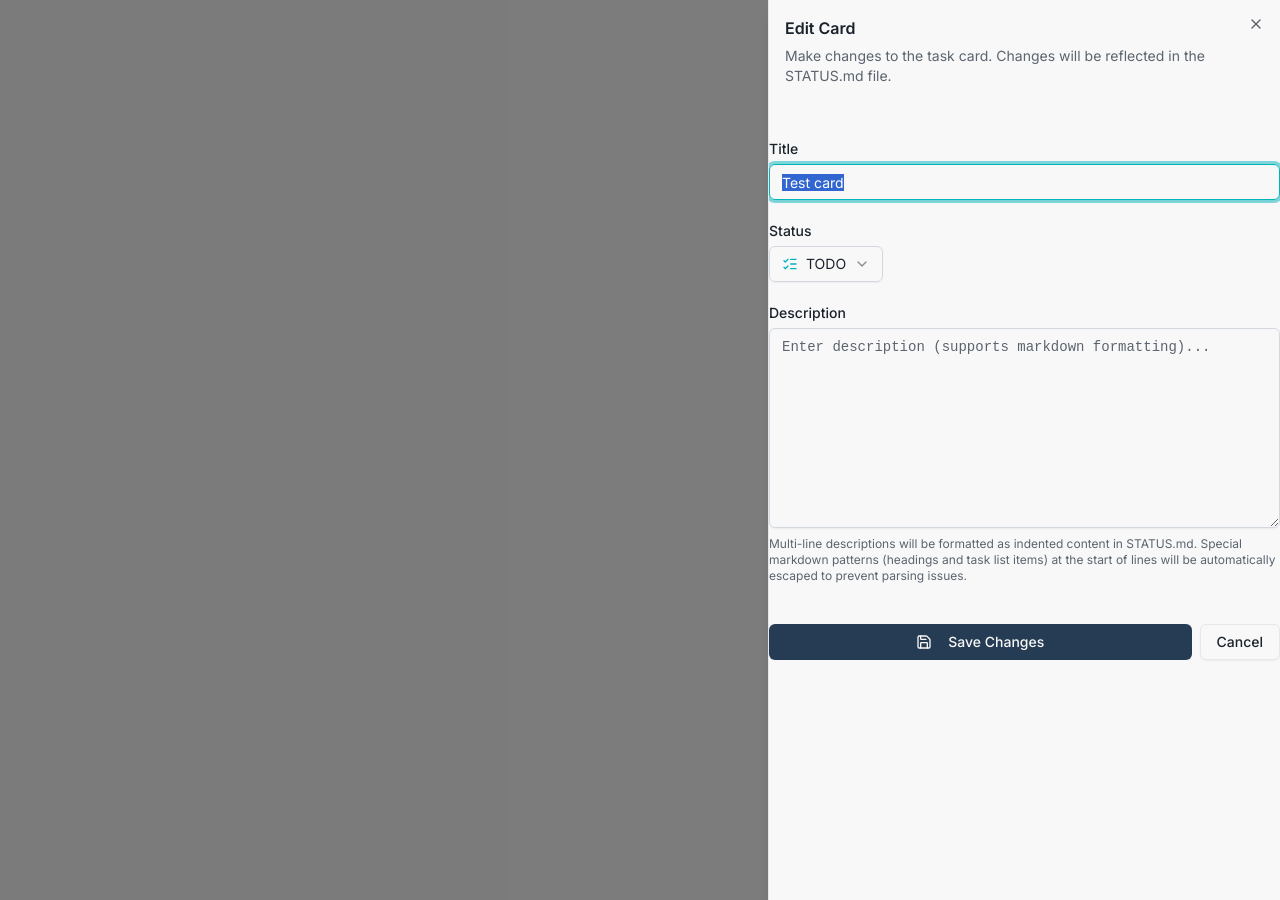
Test case: CardDetailDrawer › hides in-progress status when board is in simple mode
Step 1. Click the dropdown → (826, 264), box [769, 246, 883, 282]
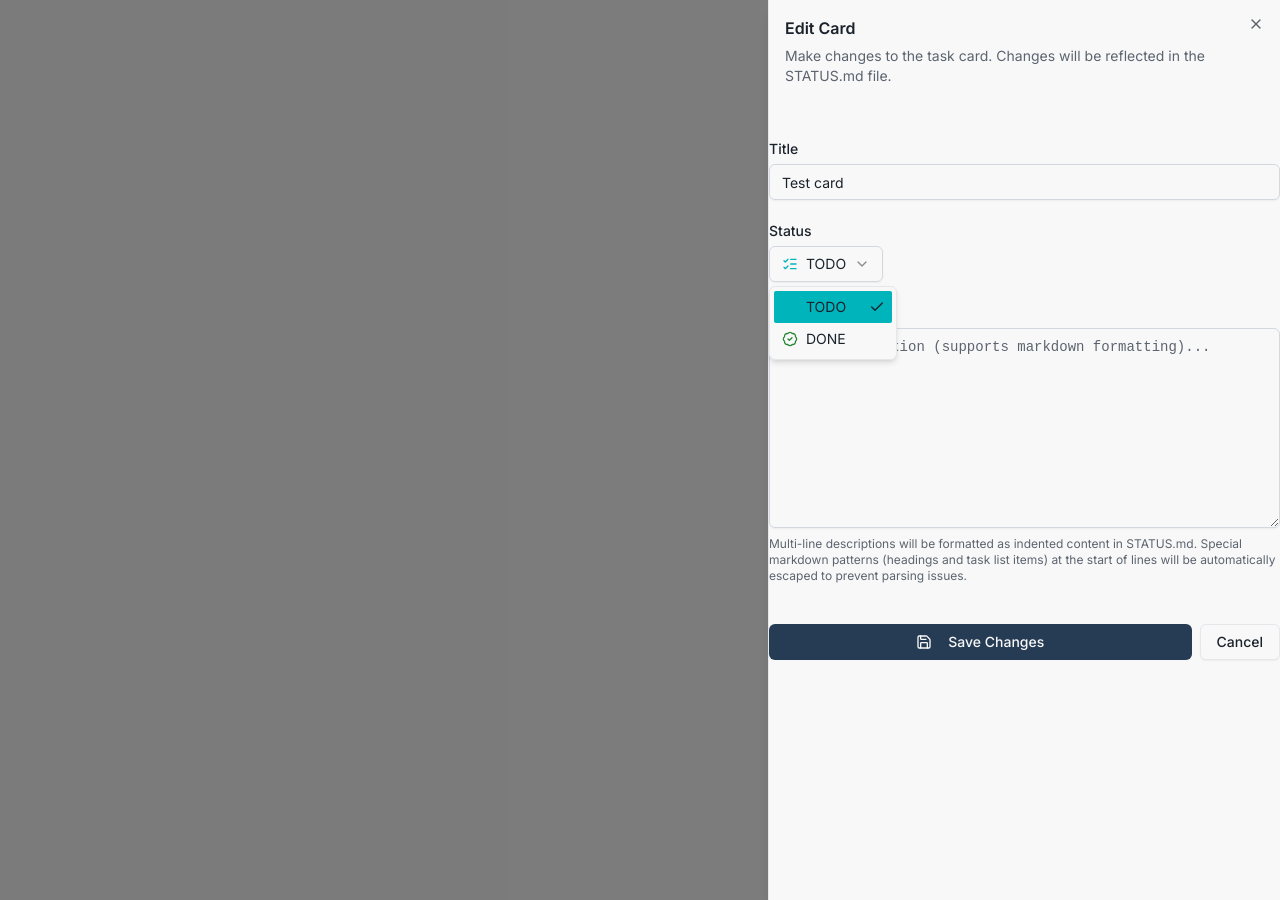
Expected: the option "TODO" is shown, [774, 291, 892, 323]
Expected: the option "DONE" is shown, [782, 330, 846, 347]
